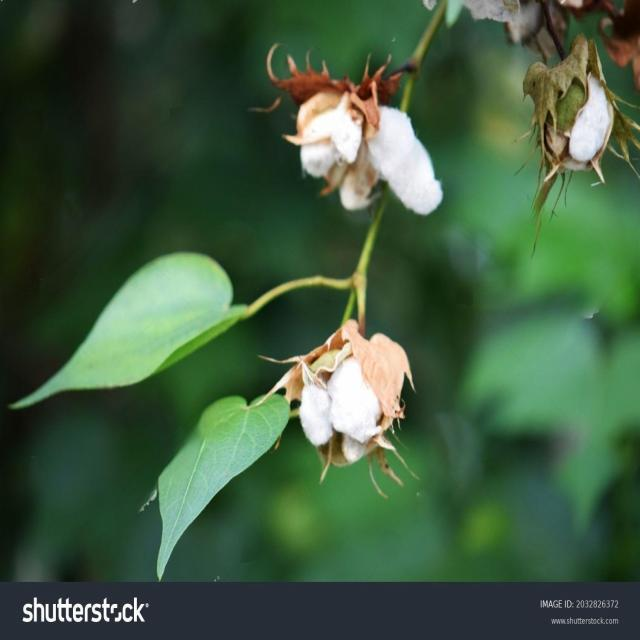Early_blight: (299, 336, 404, 462), (538, 65, 616, 175), (368, 107, 443, 221), (297, 88, 354, 185)
